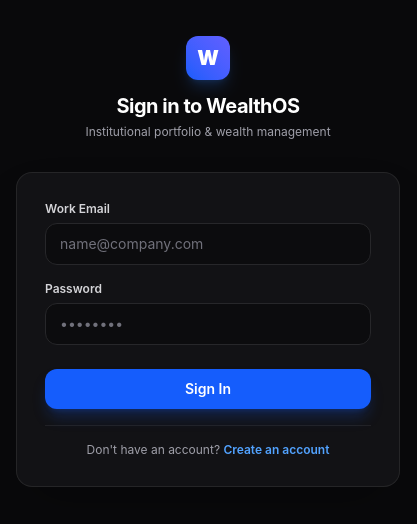
Test: LoginPage › shows validation errors when submitting an empty form
Click the button "Sign In" at (208, 388), box [45,368,371,408]
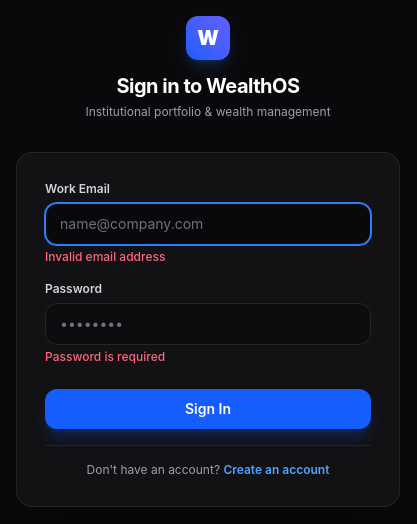
Expected: the text "Invalid email address" is shown, [45,248,165,264]
Expected: the text "Password is required" is shown, [45,348,165,364]
